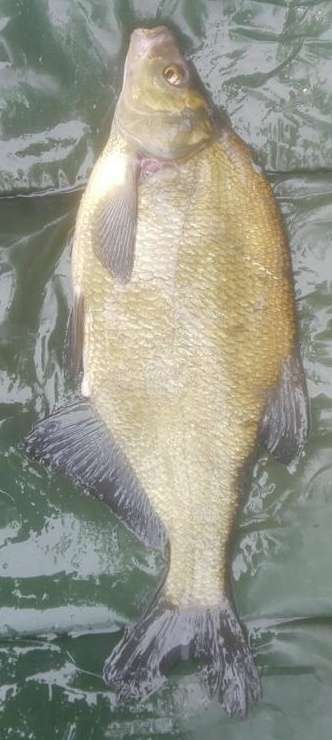Abramis brama: (20, 20, 312, 720)
